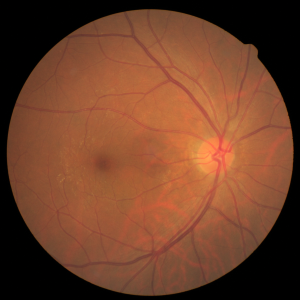retina_disease: (73, 95, 270, 212)
